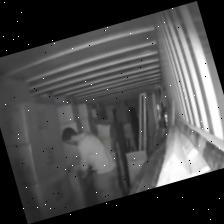person: (62, 128, 122, 202)
